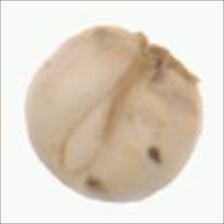L5: (61, 58, 147, 172), (126, 28, 204, 86)
L6: (23, 23, 205, 204)
